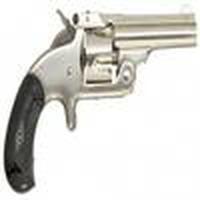gun: (1, 13, 194, 192)
